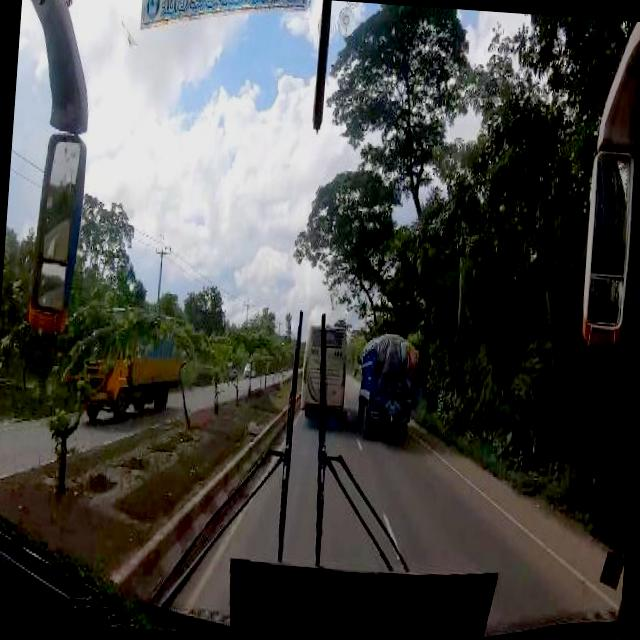bus: (300, 326, 350, 413)
truck: (78, 309, 188, 426), (357, 328, 422, 438)
